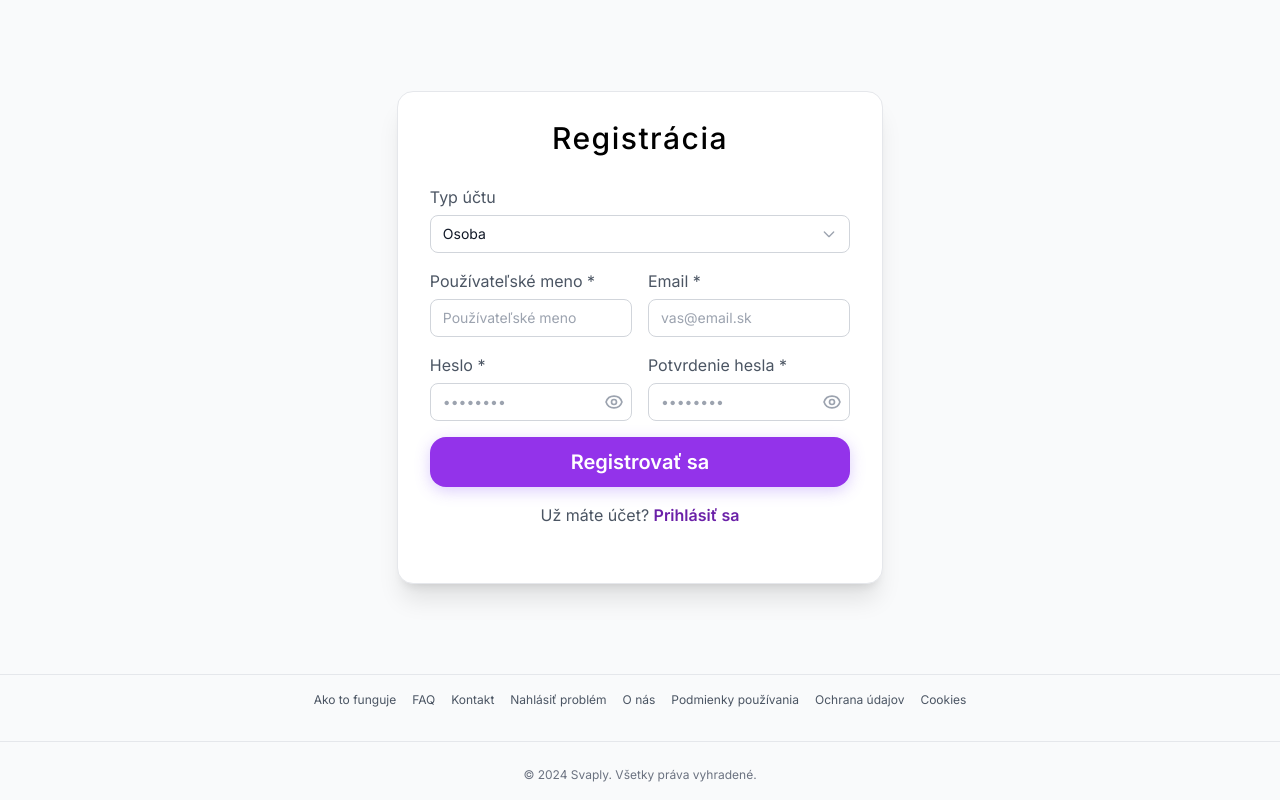
Test: RegisterForm › validates required fields
Click the button "Registrovať sa".
click(640, 462)  # box [430, 436, 850, 486]
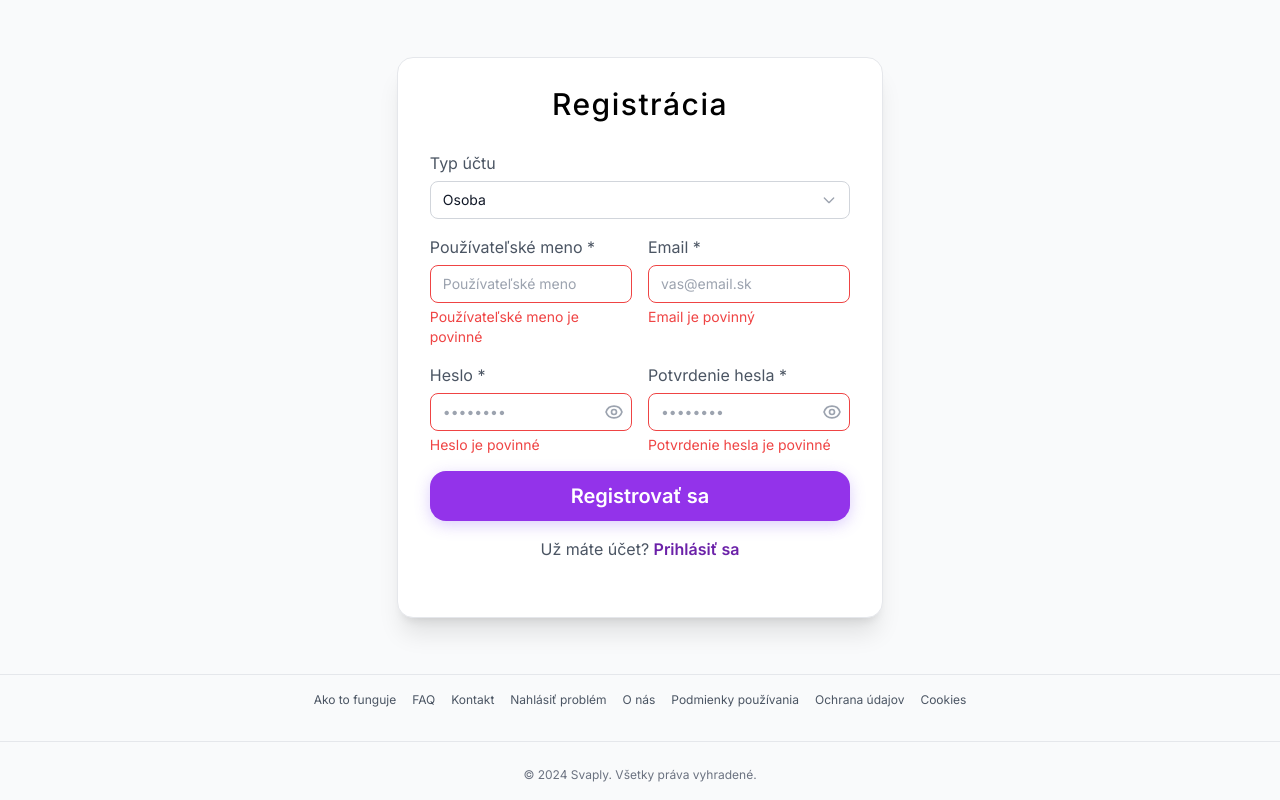
Now the text "Používateľské meno je povinné" is shown, box [430, 308, 579, 344]
Now the text "Email je povinný" is shown, box [648, 308, 755, 324]
Now the text "Heslo je povinné" is shown, box [430, 436, 540, 452]
